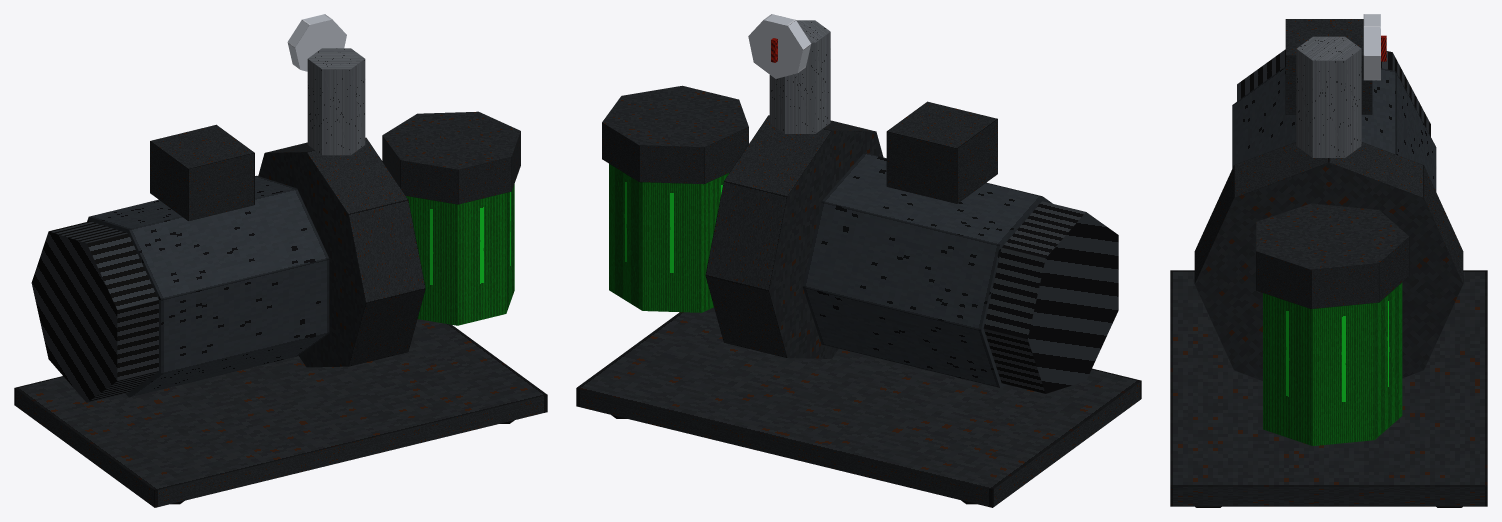
The model's file is nutrient_pump.glb.
3 renders of one model, left to right at view 1: azimuth 30°, elevation 25°; view 2: azimuth 150°, elevation 25°; view 3: azimuth 270°, elevation 25°, orthographic. The views are drawn at different scales.
Visible parts, largest first — view 1: nutrient_pump; view 2: nutrient_pump; view 3: nutrient_pump.
Part boxes in pixels (x1,y1,x2,y2): nutrient_pump: (14, 14, 547, 507); nutrient_pump: (576, 14, 1141, 507); nutrient_pump: (1170, 14, 1487, 507).
Size of the model in its own units: 0.5249 by 0.4256 by 0.2925.
Materials: 1 (1 with a texture image).
